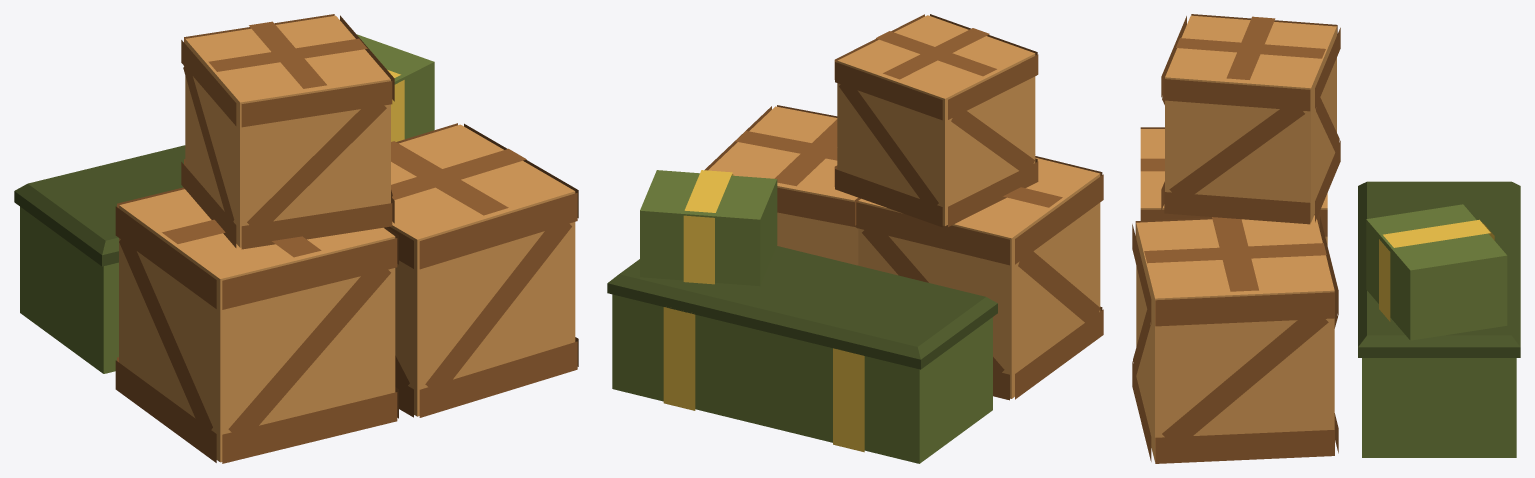
Rendered from crates.glb.
3 views of the same model, side by side, from view 1: azimuth 30°, elevation 25°; view 2: azimuth 150°, elevation 25°; view 3: azimuth 270°, elevation 25° (orthographic). The views are drawn at different scales.
Visible parts, largest first — view 1: crates; view 2: crates; view 3: crates.
Boxes of the visible parts, left/top/right/bottom form: crates: left=14, top=14, right=578, bottom=463; crates: left=607, top=14, right=1103, bottom=463; crates: left=1132, top=14, right=1520, bottom=463.
Bounding box in the file's own units: 0.3064 × 0.263 × 0.3009.
